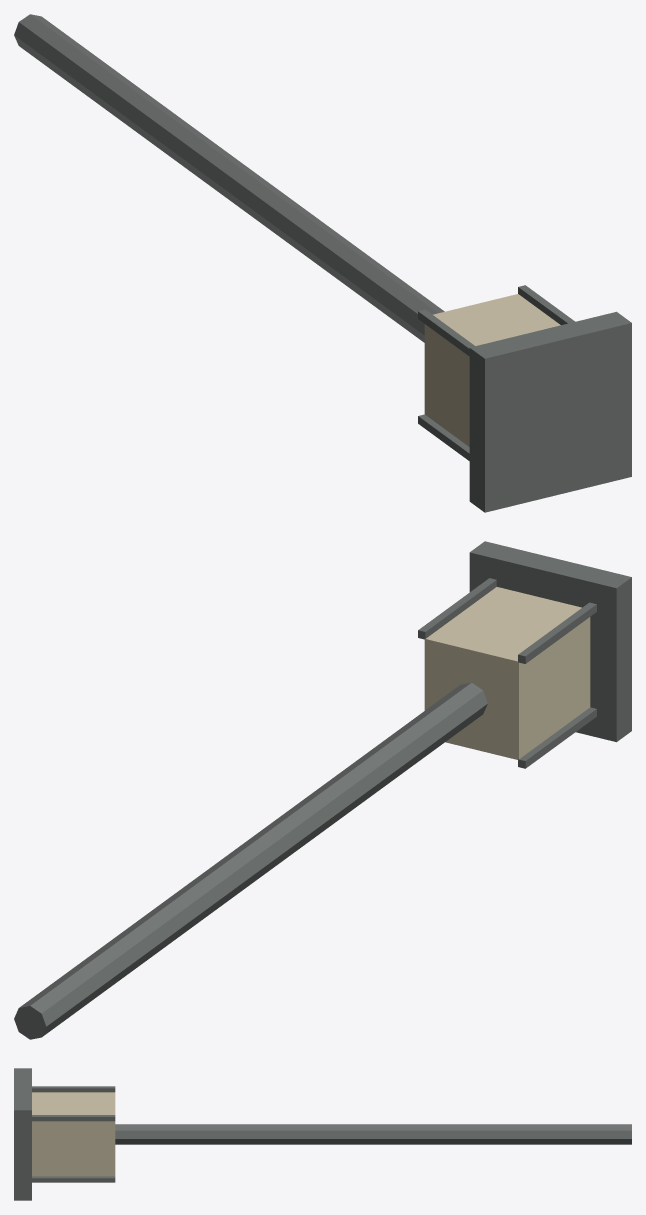
Rendered from lantern.glb.
3 renders of one model, top to bottom at view 1: azimuth 30°, elevation 25°; view 2: azimuth 150°, elevation 25°; view 3: azimuth 270°, elevation 25°, orthographic. The views are drawn at different scales.
Visible parts, largest first — view 1: stem; view 2: stem; view 3: stem.
Boxes of the visible parts, <box> form: stem: <box>14,14,631,512</box>; stem: <box>14,541,631,1039</box>; stem: <box>14,1068,631,1200</box>.
Bounding box in the file's own units: 0.5 × 0.5 × 3.11.
